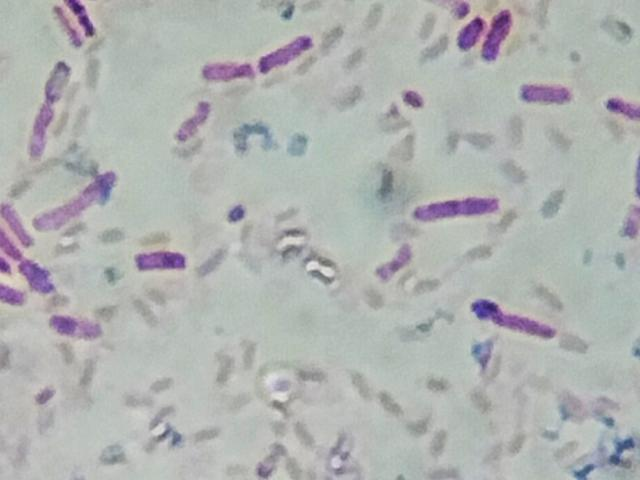E. coli: (33, 169, 130, 234), (472, 293, 559, 338), (412, 183, 502, 221), (170, 93, 217, 145), (129, 245, 198, 280), (258, 35, 320, 73), (521, 73, 574, 112), (198, 49, 255, 85), (43, 55, 84, 105), (19, 100, 56, 155), (62, 0, 111, 39), (52, 312, 106, 345), (1, 199, 35, 250), (486, 5, 512, 62), (602, 91, 640, 126), (22, 256, 57, 293), (56, 5, 82, 48), (459, 12, 482, 55), (0, 279, 21, 309), (0, 237, 19, 261)
